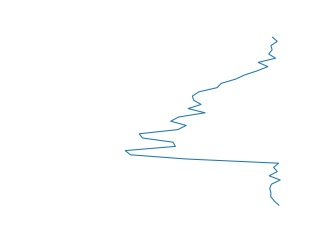proximalDeepseaFan: (120, 36, 284, 207)
